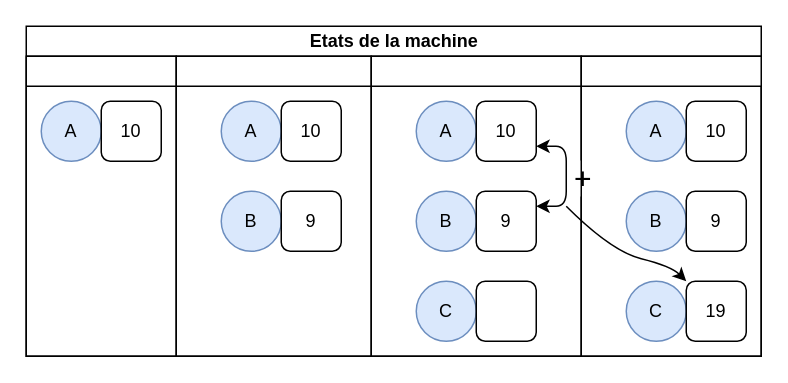
Image size: 788x383. Some labels were removed from this diagram. The box of each missing label's shape, as (x1, y1, x2, y2) in pixels:
Ligne 1: (25, 55, 176, 356)
Ligne 2: (175, 55, 371, 356)
Ligne 3.a: (370, 55, 581, 356)
Ligne 3.b: (580, 55, 761, 356)
